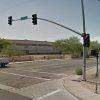Traffic light: (4, 9, 42, 35)
